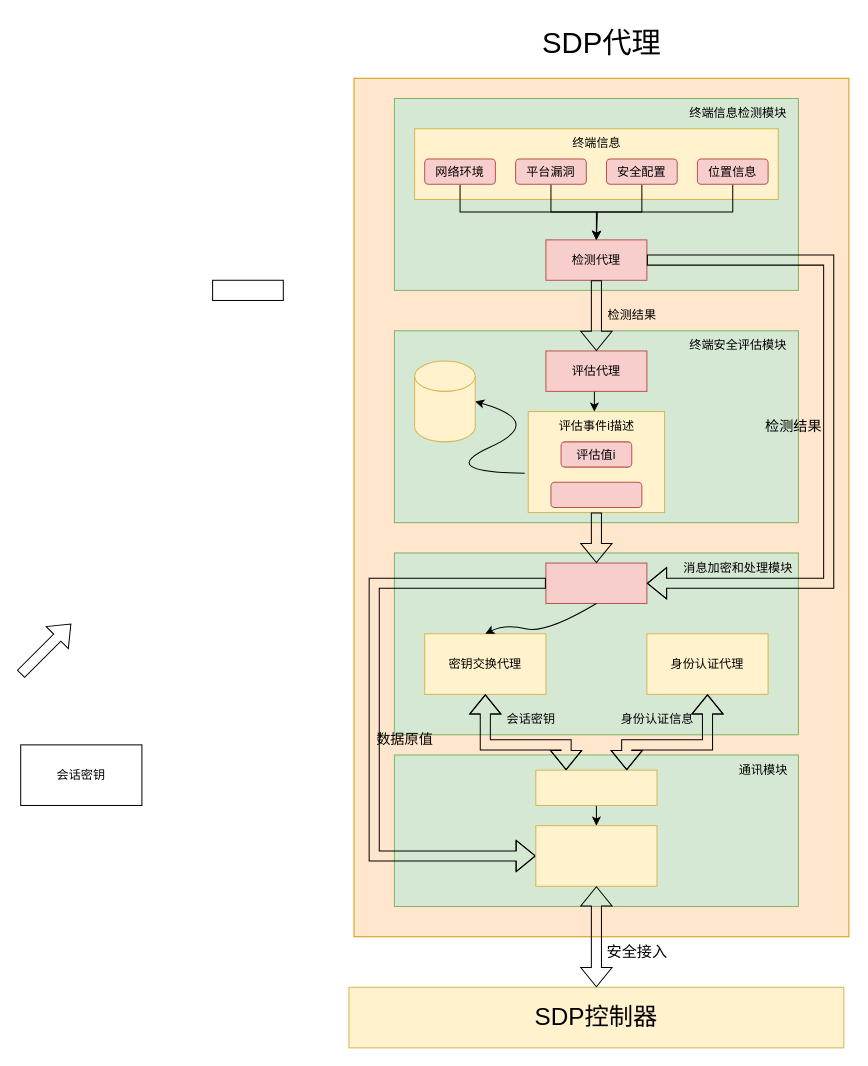
This 868x1066 diagram has some shape labels left out. The shapes that lost their labels are listed below. From the top down, each one's box as (x1, y1, x2, y2) in pixels, then its label:
(414, 360, 475, 442): 评估事件日志
(550, 481, 642, 508): 评估事件i上下文
(545, 562, 647, 603): 数据加解密代理
(535, 769, 657, 805): SPA消息
(535, 825, 657, 886): 网络通讯代理
